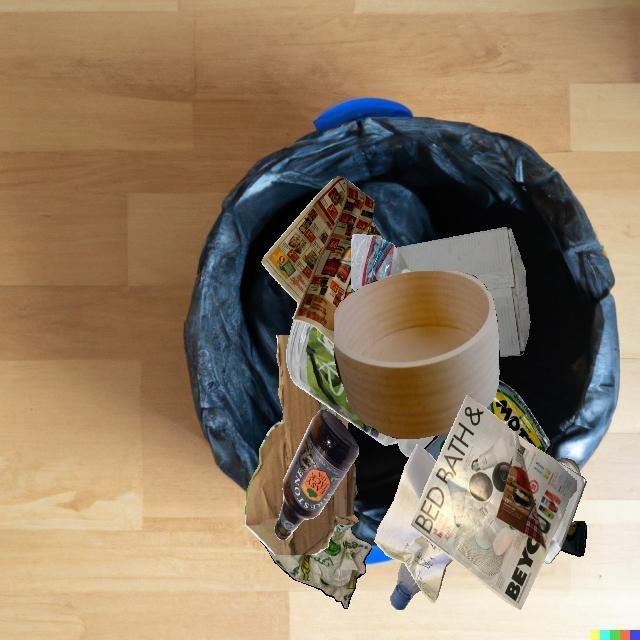cardboard: (245, 335, 358, 555), (397, 227, 530, 357)
combustible waste: (334, 271, 500, 439)
glass: (275, 409, 359, 540), (555, 458, 581, 476)
paper: (411, 395, 577, 610), (261, 176, 384, 344), (374, 444, 453, 603), (260, 527, 372, 609), (543, 459, 586, 564)
plastic: (286, 320, 437, 457), (351, 234, 411, 291), (390, 562, 421, 610)
trash: (447, 380, 571, 535)
